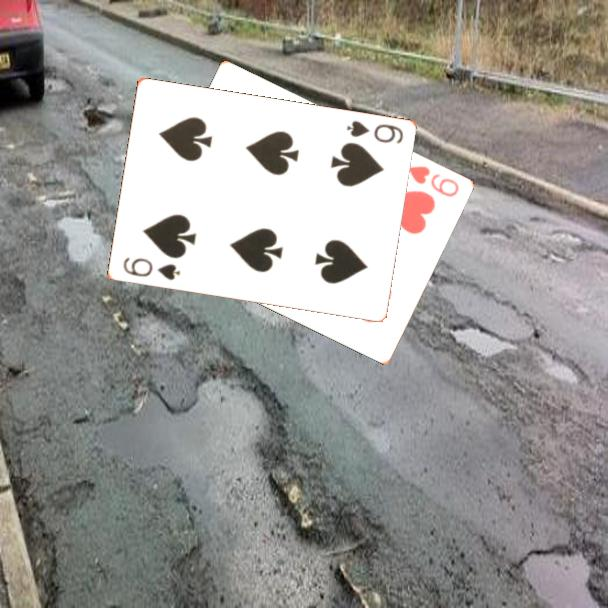h09: (403, 162, 461, 200)
s06: (343, 117, 406, 147), (119, 254, 183, 283)
